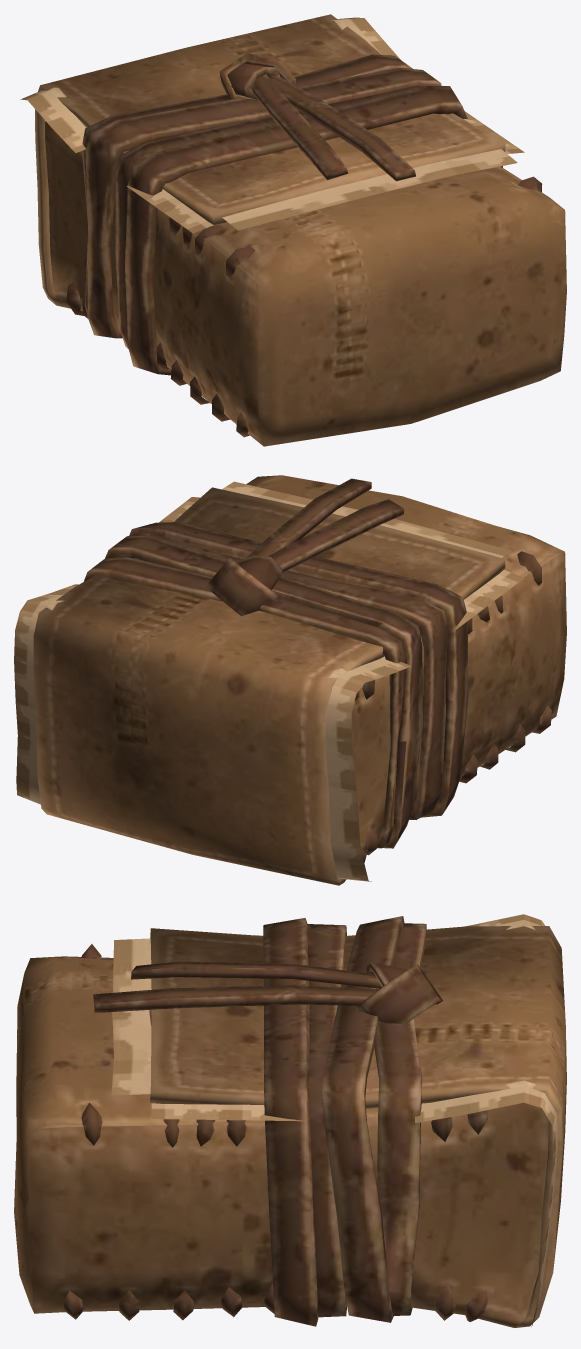
File: logstash.glb
3 views of the same model, one above another, from view 1: azimuth 30°, elevation 25°; view 2: azimuth 150°, elevation 25°; view 3: azimuth 270°, elevation 25° (orthographic). The views are drawn at different scales.
Parts seen in each view (by area): view 1: smallstash_LOD0; view 2: smallstash_LOD0; view 3: smallstash_LOD0.
Boxes of the visible parts, <box> form: smallstash_LOD0: <box>20,14,566,446</box>; smallstash_LOD0: <box>14,475,566,885</box>; smallstash_LOD0: <box>14,914,566,1327</box>.
Bounding box in the file's own units: 0.4325 × 0.3027 × 0.5152.
Materials: 1 (1 with a texture image).
